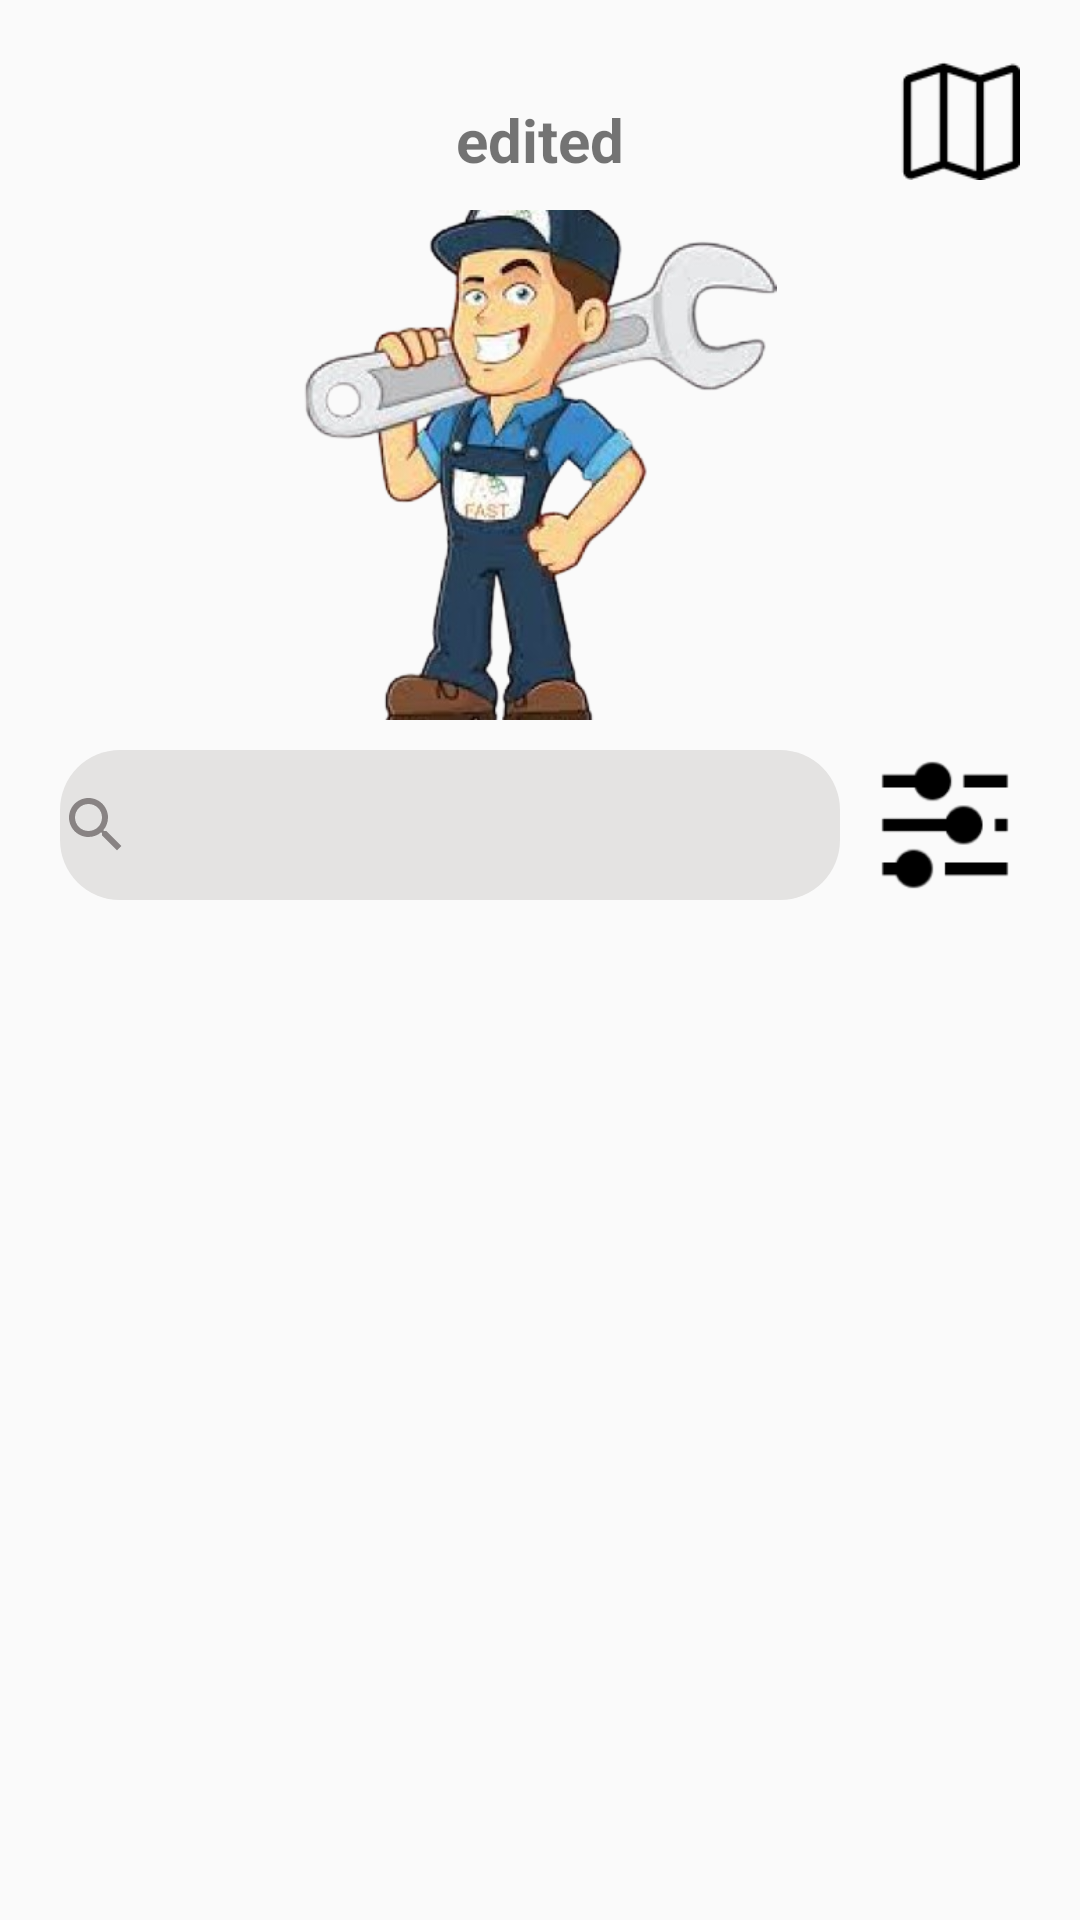

Locate icon controls on the screen. Image size 1080x1920, boxes as region(x1, y1, x2, y2).
filter: region(881, 761, 1009, 888)
map: region(902, 63, 1020, 180)
